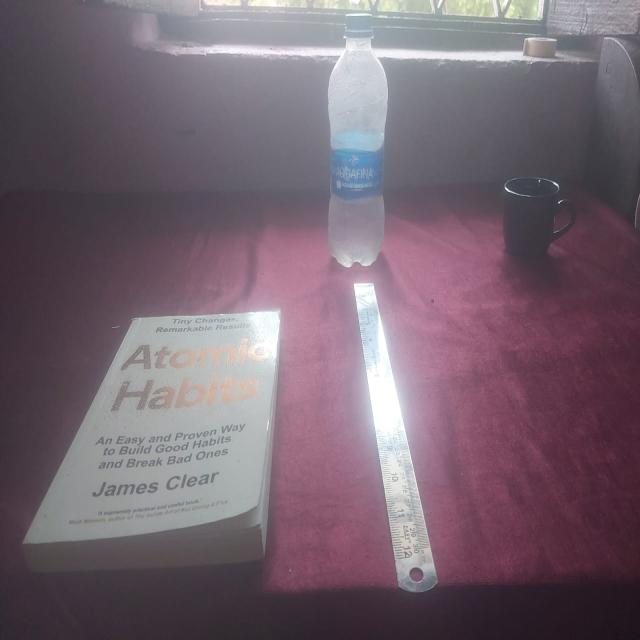Book: (21, 311, 279, 560)
Bottle: (316, 15, 392, 262)
Cup: (501, 175, 578, 260)
scale: (342, 280, 447, 598)
